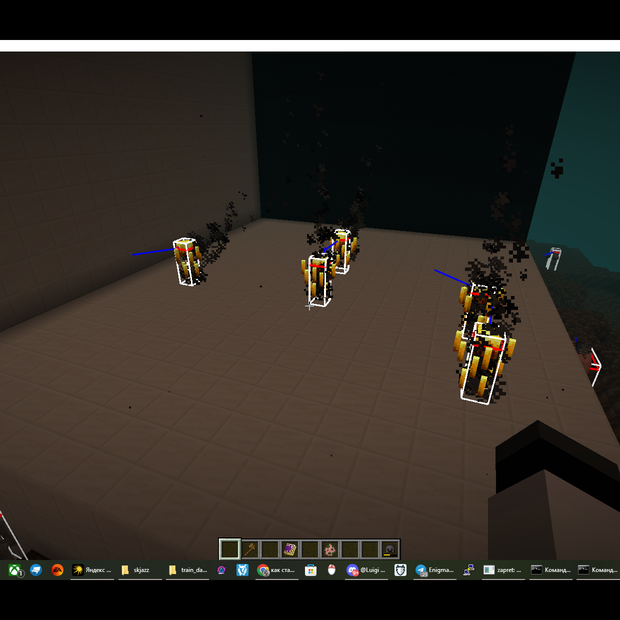target: (459, 328, 506, 406), (463, 280, 495, 341), (305, 254, 333, 307), (174, 239, 200, 285), (330, 228, 351, 274), (545, 244, 562, 272)
